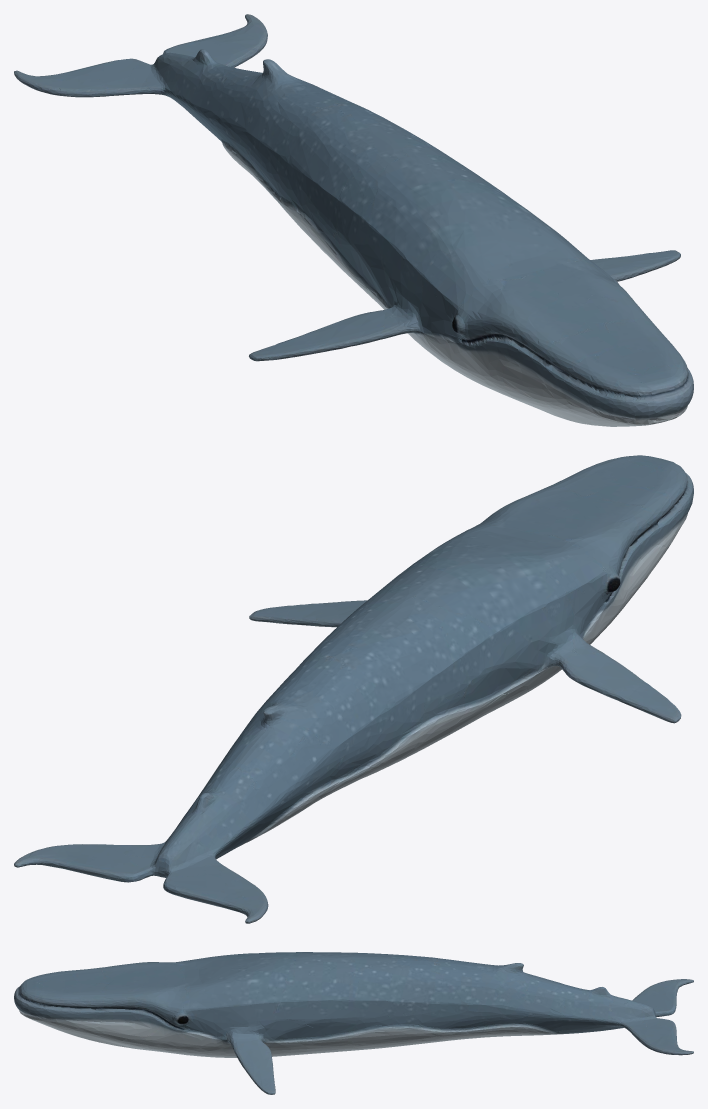
Rendered from meshy-blue-whale.glb.
3 renders of one model, top to bottom at view 1: azimuth 30°, elevation 25°; view 2: azimuth 150°, elevation 25°; view 3: azimuth 270°, elevation 25°, orthographic. The views are drawn at different scales.
Bounding box in the file's own units: 0.8739 × 0.286 × 1.9.
Materials: 1 (1 with a texture image).
